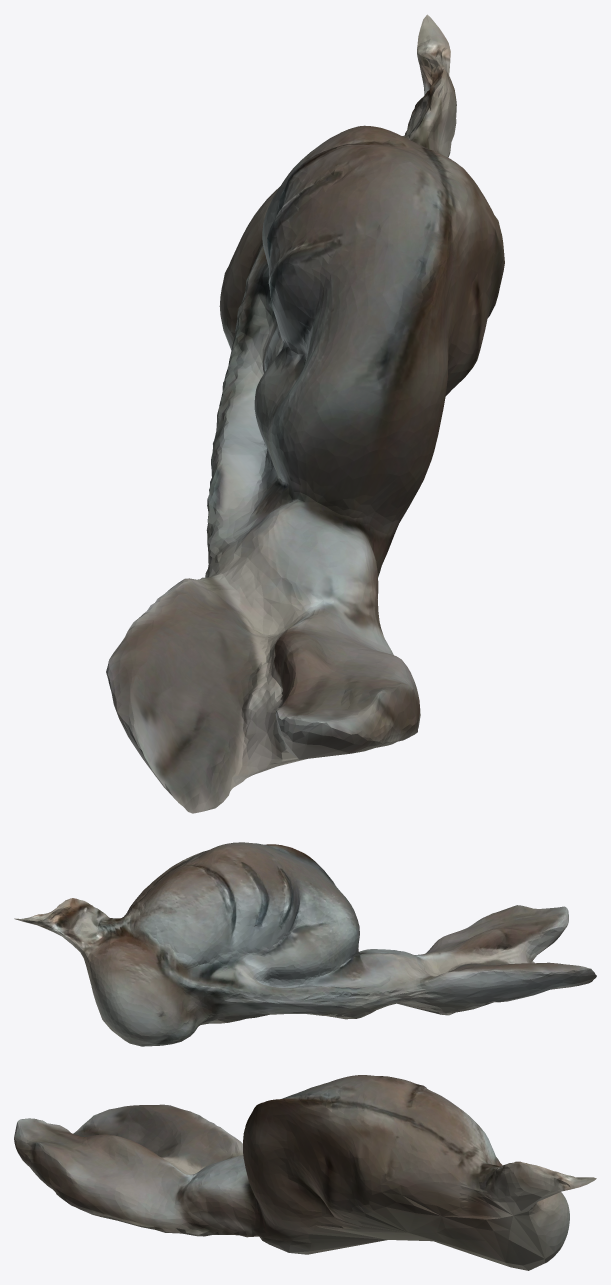
File: foetuspenduDos.glb
The picture shows the model from 3 angles, top to bottom: view 1: azimuth 30°, elevation 25°; view 2: azimuth 150°, elevation 25°; view 3: azimuth 270°, elevation 25°; orthographic projection. The views are drawn at different scales.
Size of the model in its own units: 0.4344 by 0.2057 by 0.523.
Materials: 1 (1 with a texture image).
